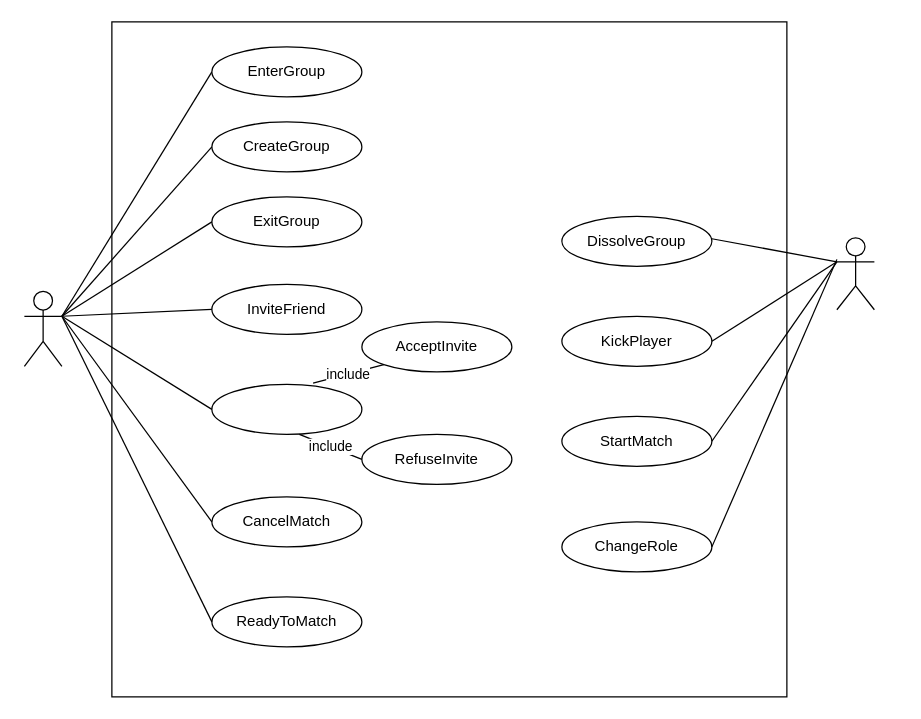
Some shapes in this 921 by 719 pixel diagram are drawn without their labels. The shapes that lost their labels are listed below. From the top down, each one's centre as x and y in pixels, then its label:
the point at 855,273: Group Owner
the point at 42,328: Player
the point at 286,408: HandleInvite
